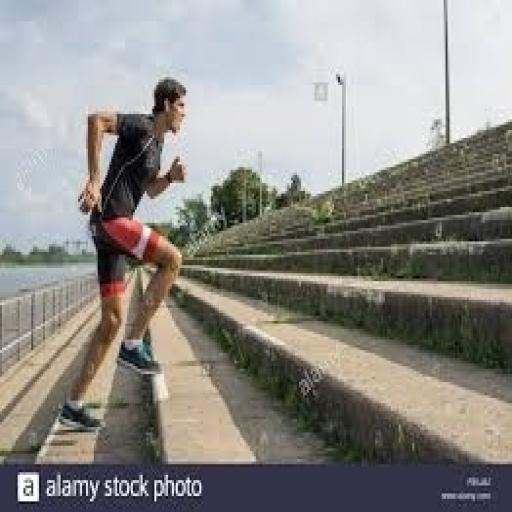running: (56, 74, 192, 435)
